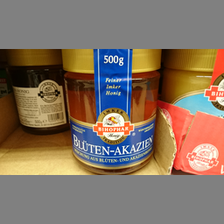honey: (62, 49, 163, 173)
